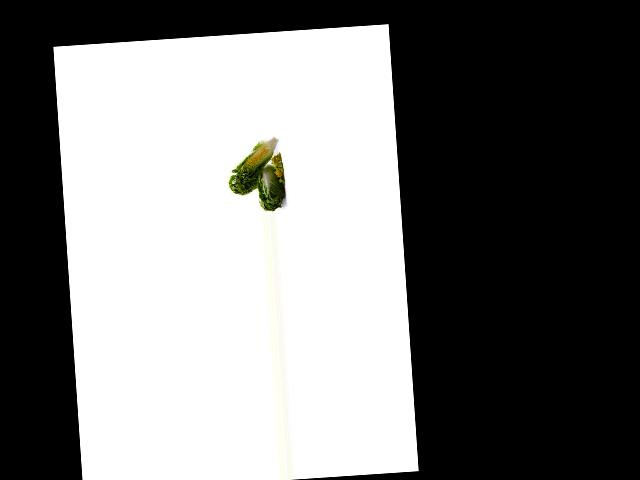lettuce: (254, 158, 288, 210)
